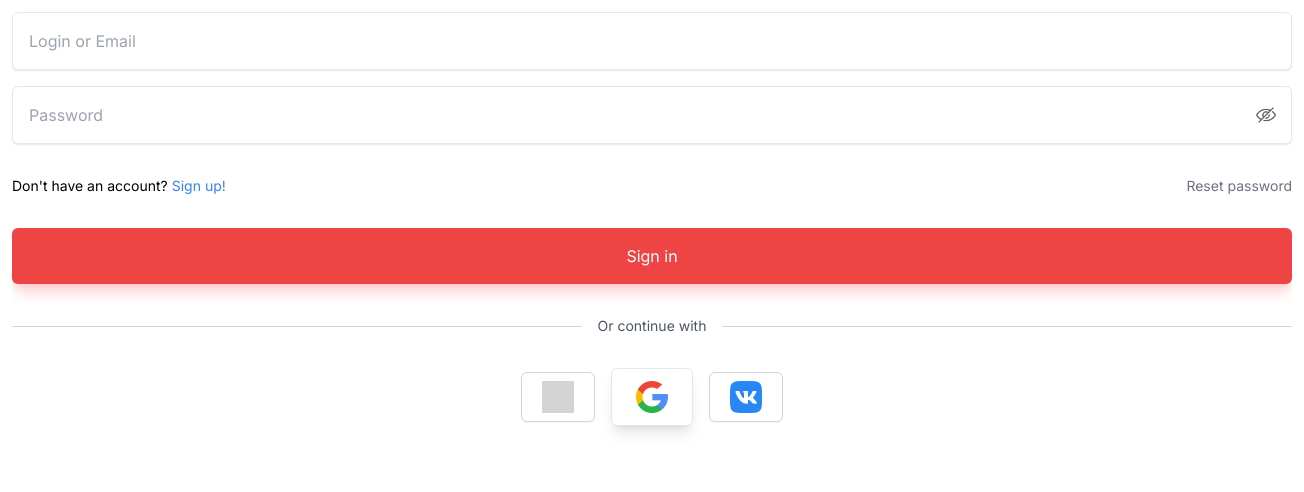
Scenario: <LoginForm /> › 1. Displays error message for login or email input when empty
This screenshot has width=1304, height=492.
Click the button with test id "SubmittingButton" at (652, 256), box [12,228,1292,284]
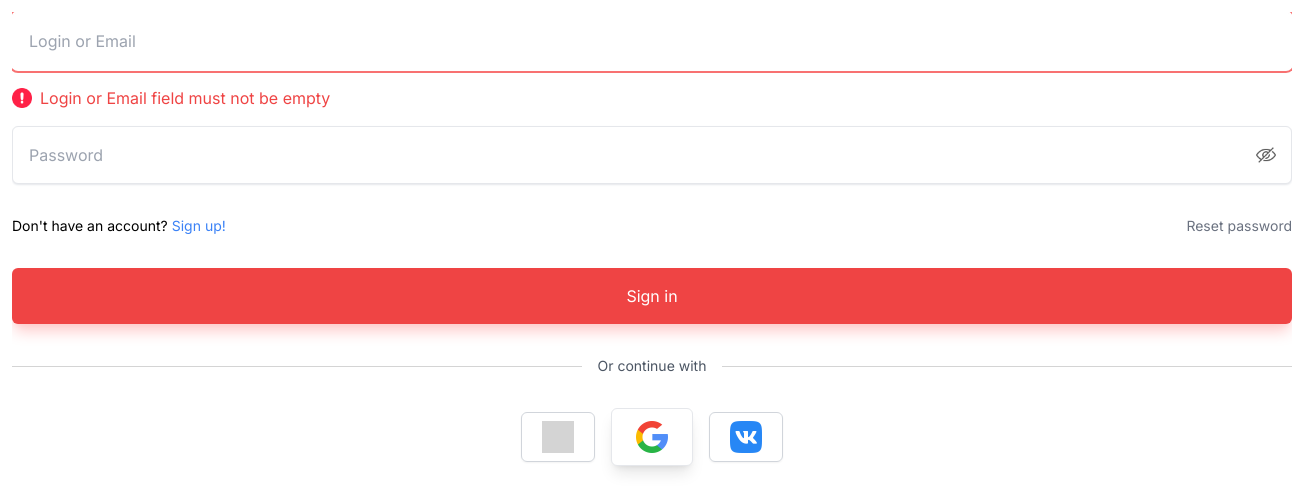
Check: the text with test id "ErrorMessageComponent.Message" reads "Login or Email field must not be empty", box [40,88,330,108]
